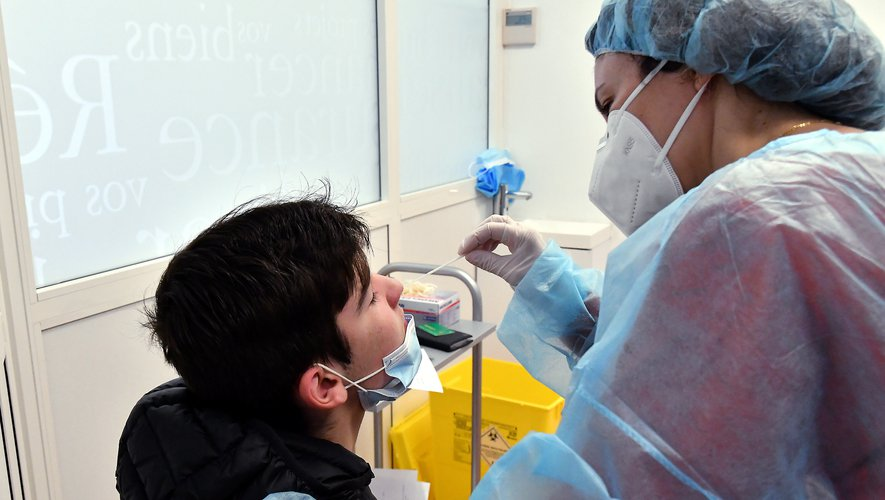with_incorrect_mask: (336, 269, 428, 408)
with_mask: (577, 71, 673, 221)
